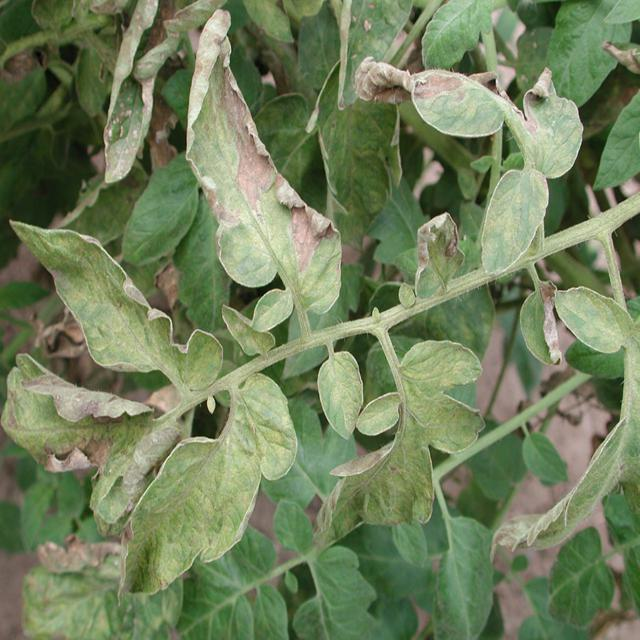Leaf_Mold: (180, 9, 347, 326), (288, 325, 484, 547), (111, 373, 297, 597), (13, 217, 223, 391), (353, 50, 585, 177), (11, 351, 156, 524), (470, 168, 547, 281), (553, 284, 632, 352), (410, 217, 465, 297), (317, 352, 362, 442), (521, 279, 562, 365)
